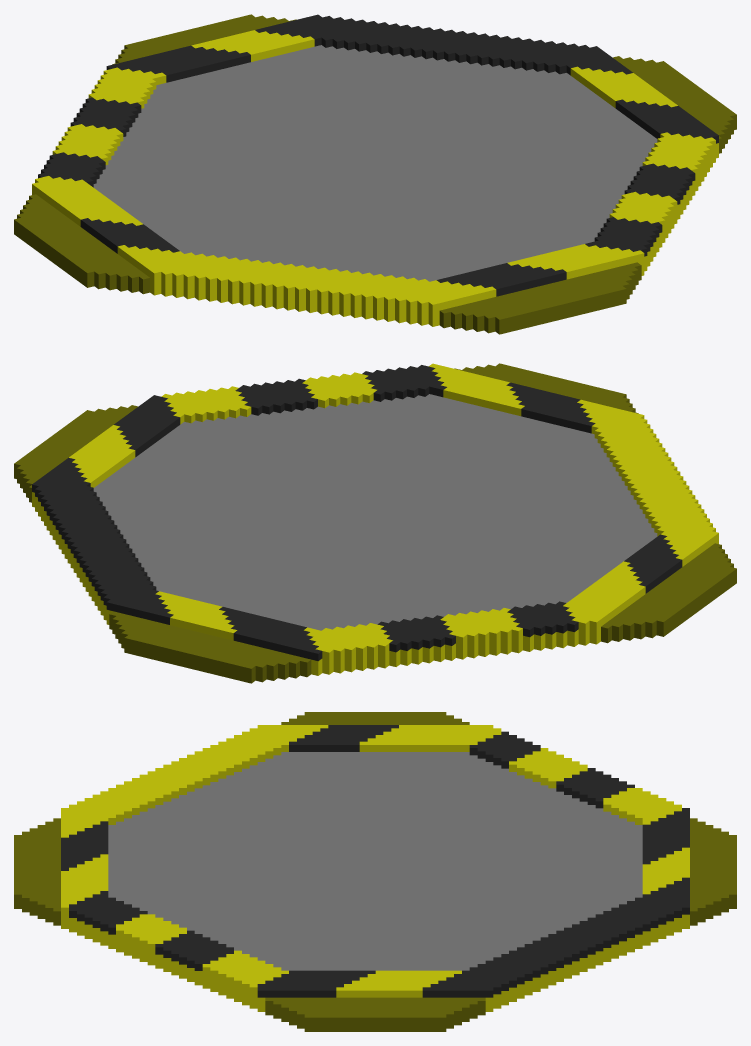
The model's file is GDIRepairBay.obj.
3 renders of one model, top to bottom at view 1: azimuth 30°, elevation 25°; view 2: azimuth 150°, elevation 25°; view 3: azimuth 270°, elevation 25°, orthographic. The views are drawn at different scales.
Size of the model in its own units: 9.2 by 0.3 by 9.2.
1 material, 1 textured.
